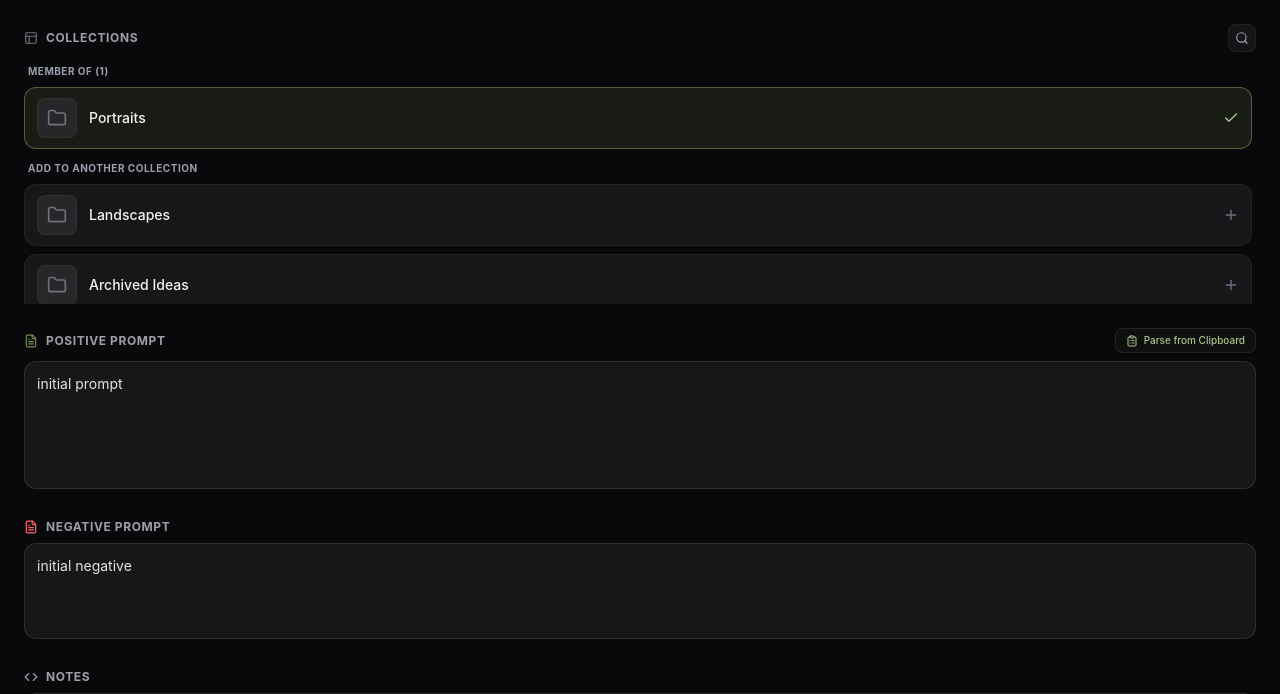
Scenario: MetadataEditTab › suggests matching tags, applies a suggestion, and saves both dirty prompts
Replace the text in the text box with placeholder "Enter positive prompt..." with "portrait, ca" at (640, 425), box [24,361,1256,489]
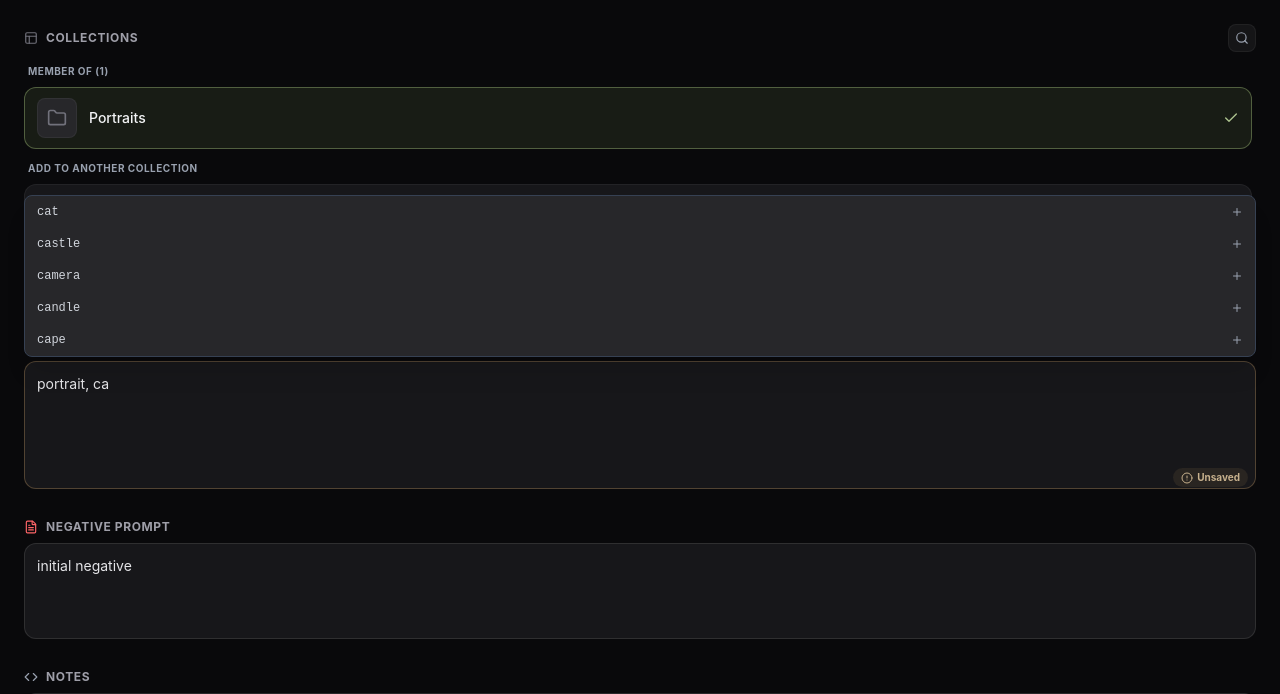
Result: the text "castle" is shown at [37,236,80,252]
Result: the text "camera" is shown at [37,268,80,284]
Click the button "castle".
click(59, 244)  # box [25,228,1255,260]
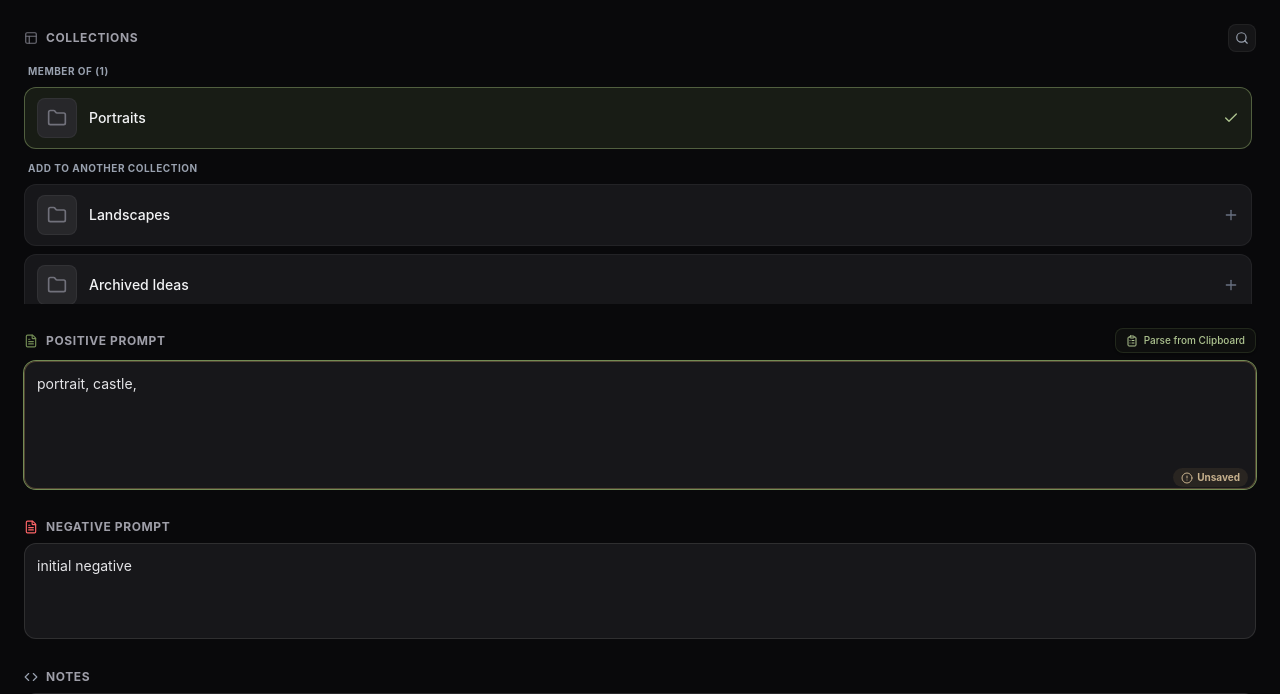
Result: the text box with placeholder "Enter positive prompt..." holds "portrait, castle, "
Replace the text in the text box with placeholder "Enter positive prompt..." with "final prompt" at (640, 425), box [24,361,1256,489]
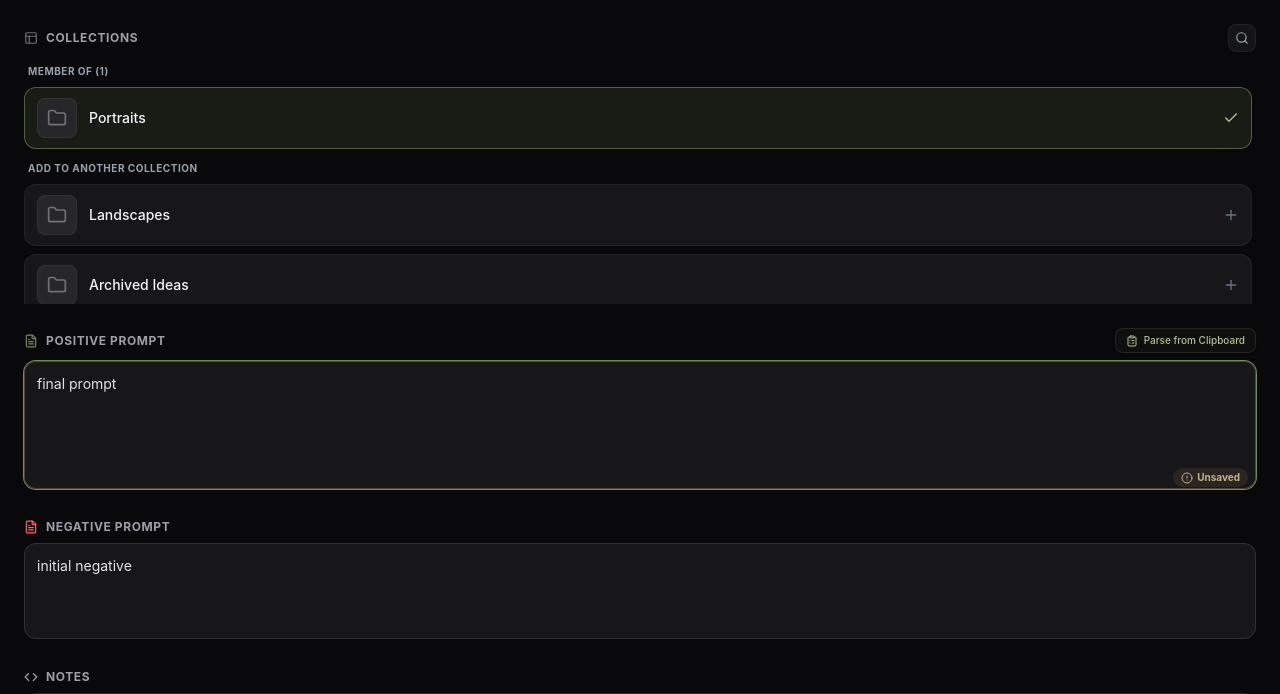
Replace the text in the text box with placeholder "Enter negative prompt..." with "final negative" at (640, 591), box [24,543,1256,639]
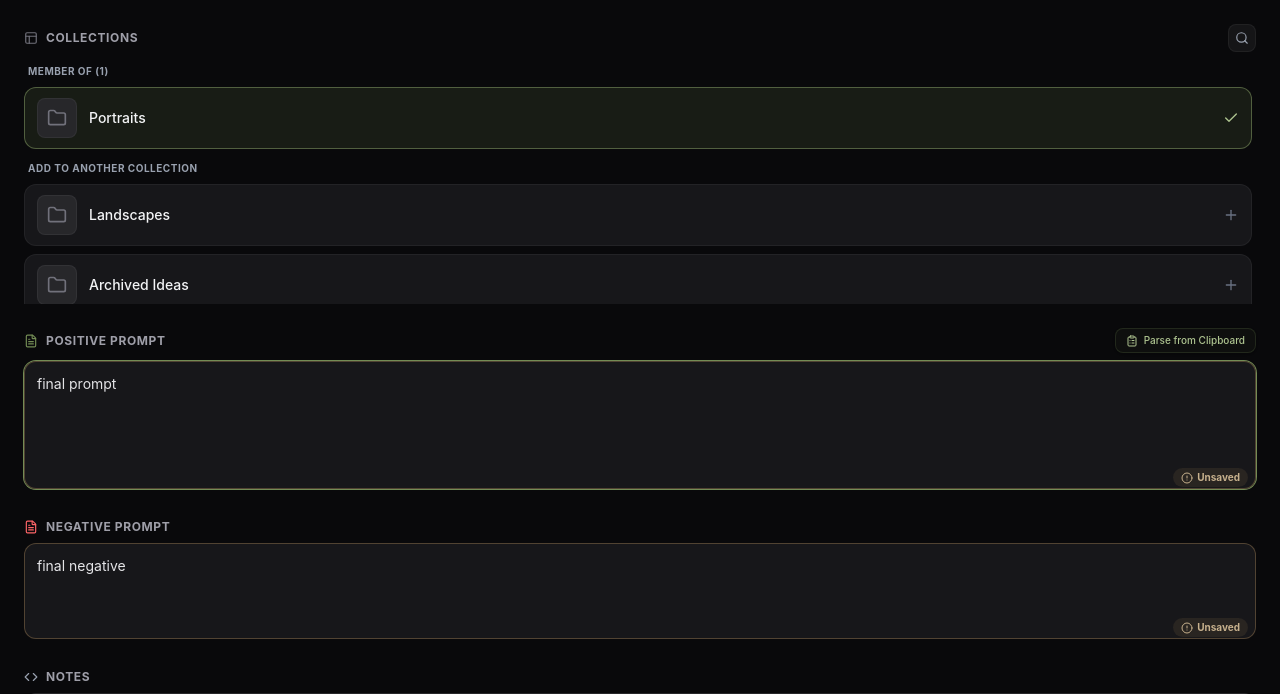
Result: the text "Unsaved" is shown 2 times at [1173,468,1248,487]; [1173,618,1248,637]
Leave the text box with placeholder "Enter positive prompt...", box [24,361,1256,489]
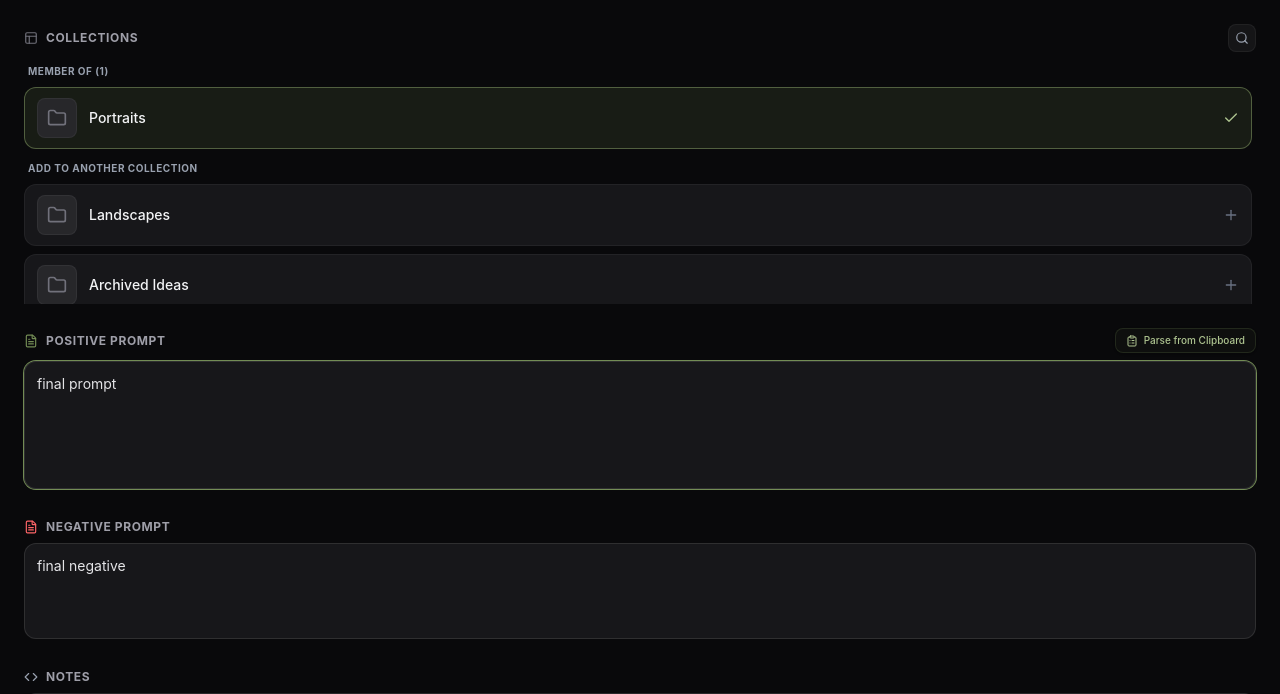
Result: the text "Unsaved" is gone
